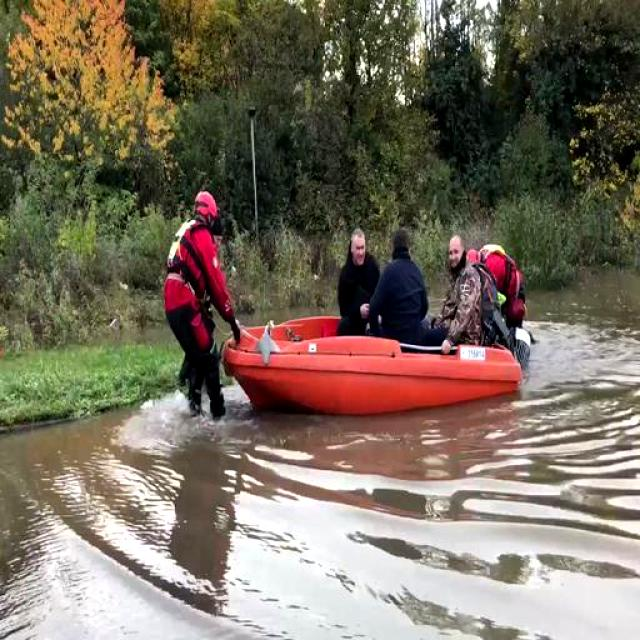civilian: (371, 215, 437, 351), (431, 236, 491, 362), (332, 220, 382, 342)
rescuer: (168, 186, 244, 416), (174, 208, 226, 404), (464, 226, 534, 338)
